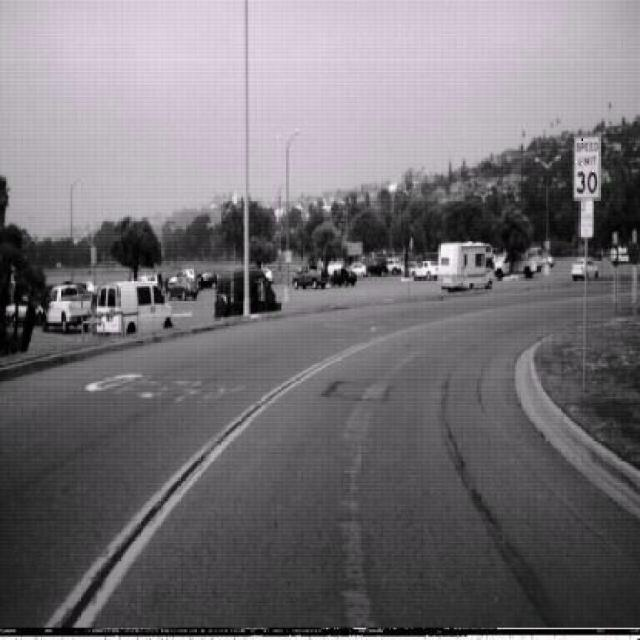speedLimit30: (572, 134, 600, 200)
